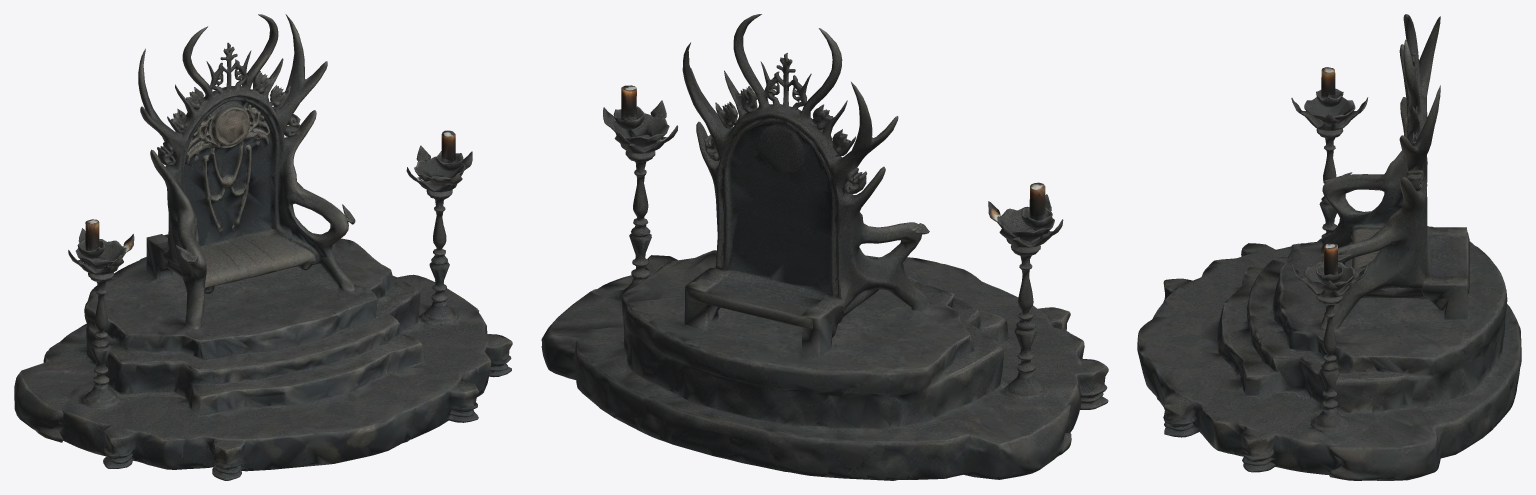
Rendered from throne.glb.
The picture shows the model from 3 angles, left to right: view 1: azimuth 30°, elevation 25°; view 2: azimuth 150°, elevation 25°; view 3: azimuth 270°, elevation 25°; orthographic projection. The views are drawn at different scales.
Bounding box in the file's own units: 1.9 × 1.43 × 1.43.
Materials: 1 (1 with a texture image).
